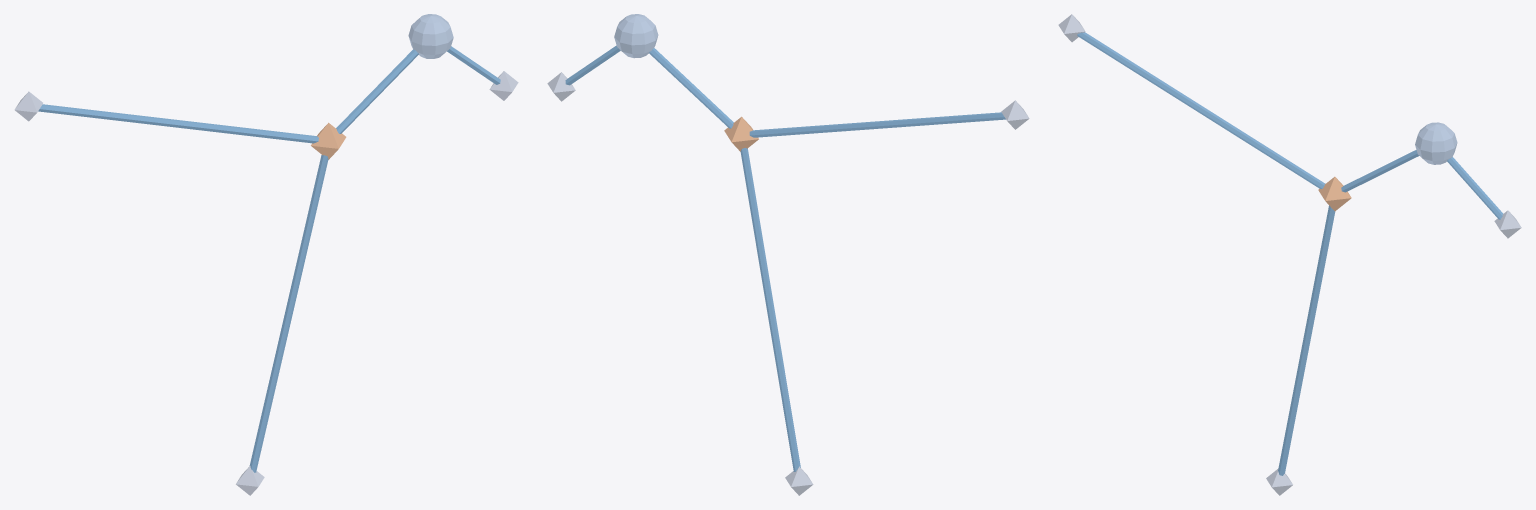
File: constellation-col.glb
3 renders of one model, left to right at view 1: azimuth 30°, elevation 25°; view 2: azimuth 150°, elevation 25°; view 3: azimuth 330°, elevation 25°, orthographic. The views are drawn at different scales.
Bounding box in the file's own units: 1.17 × 1.03 × 0.1165.
